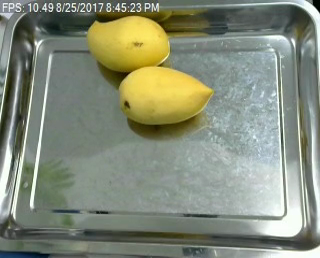Mango: (118, 63, 212, 130), (82, 12, 172, 75)
